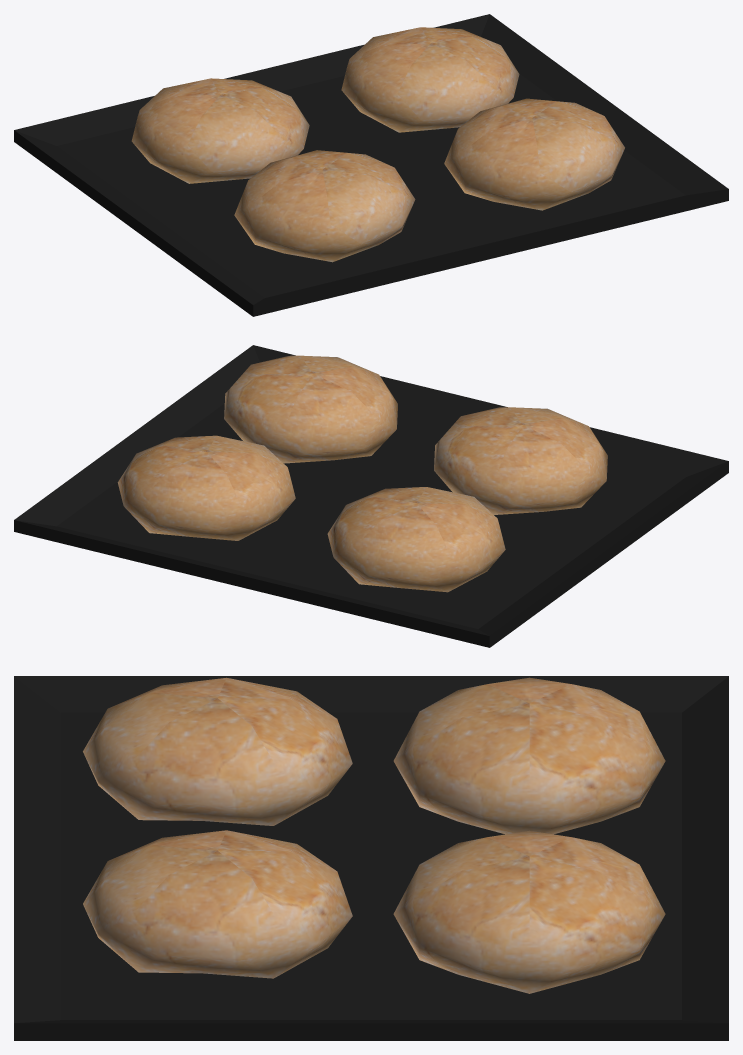
Rendered from amasado.glb.
3 renders of one model, top to bottom at view 1: azimuth 30°, elevation 25°; view 2: azimuth 150°, elevation 25°; view 3: azimuth 270°, elevation 25°, orthographic. The views are drawn at different scales.
Parts seen in each view (by area): view 1: Bandeja, pan.002, pan.001, pan.003, pan; view 2: Bandeja, pan.001, pan.002, pan, pan.003; view 3: Bandeja, pan, pan.003, pan.001, pan.002.
Part boxes in pixels (left/top/right/bottom): Bandeja: left=14, top=14, right=728, bottom=316; pan.002: left=234, top=150, right=415, bottom=262; pan.001: left=444, top=98, right=624, bottom=210; pan.003: left=131, top=78, right=309, bottom=183; pan: left=341, top=27, right=519, bottom=132; Bandeja: left=14, top=345, right=728, bottom=647; pan.001: left=224, top=355, right=397, bottom=463; pan.002: left=434, top=407, right=607, bottom=514; pan: left=117, top=435, right=295, bottom=540; pan.003: left=327, top=487, right=505, bottom=592; Bandeja: left=14, top=676, right=728, bottom=1040; pan: left=393, top=830, right=665, bottom=993; pan.003: left=393, top=677, right=665, bottom=834; pan.001: left=83, top=830, right=352, bottom=978; pan.002: left=83, top=677, right=352, bottom=825.
Bounding box in the file's own units: 1.69 × 0.2565 × 1.47.
Materials: 5 (4 with a texture image).
